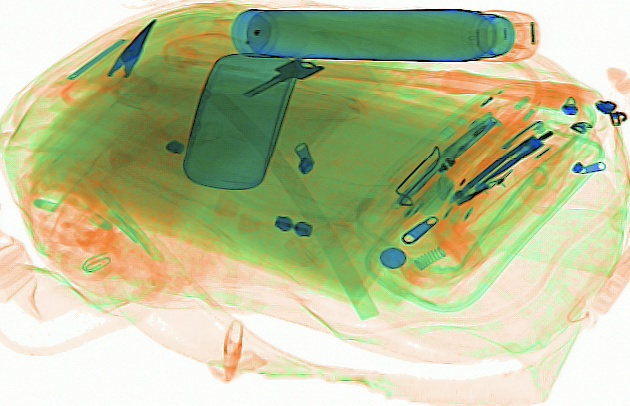scissors: (59, 13, 157, 111)
